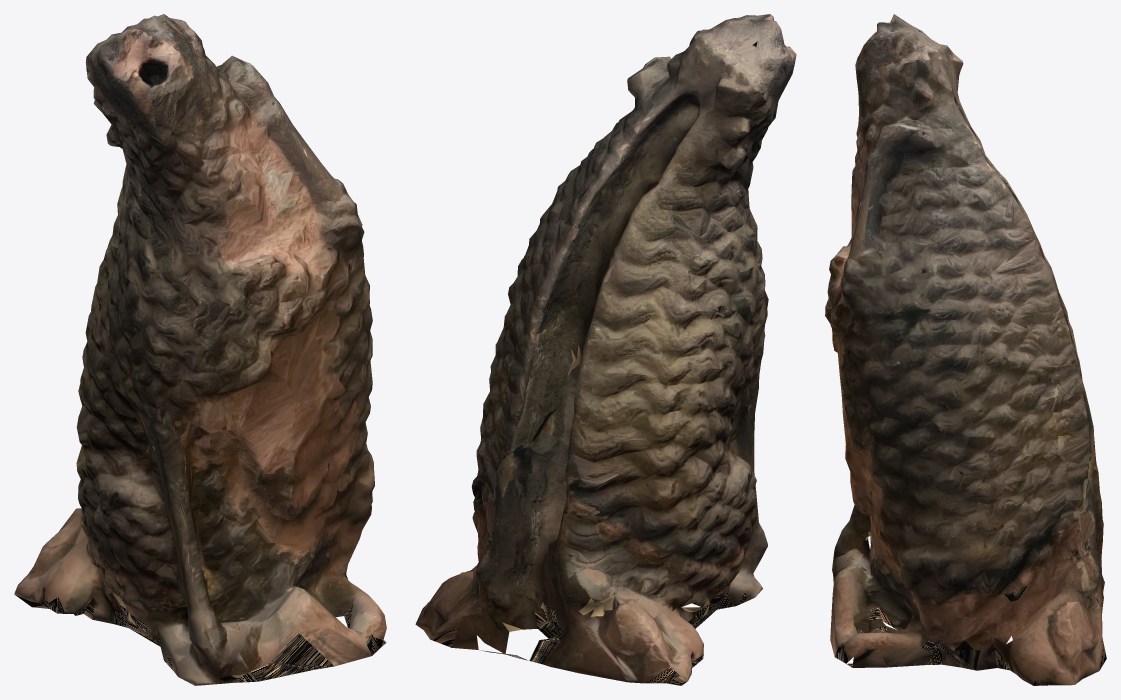
File: 13_ram.glb
3 renders of one model, left to right at view 1: azimuth 30°, elevation 25°; view 2: azimuth 150°, elevation 25°; view 3: azimuth 270°, elevation 25°, orthographic. The views are drawn at different scales.
Parts seen in each view (by area): view 1: Mesh_0; view 2: Mesh_0; view 3: Mesh_0.
Boxes of the visible parts, left/top/right/bottom form: Mesh_0: left=14, top=14, right=386, bottom=685; Mesh_0: left=415, top=14, right=796, bottom=685; Mesh_0: left=825, top=14, right=1106, bottom=685.
Size of the model in its own units: 0.982 by 2 by 0.9197.
8 materials, 8 textured.
